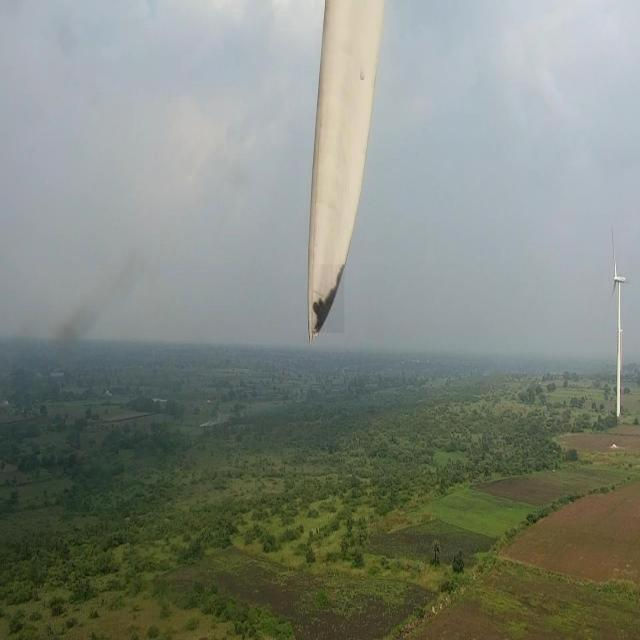Pin_Hole: (354, 66, 376, 88)
oil_leakage: (312, 265, 344, 333)
